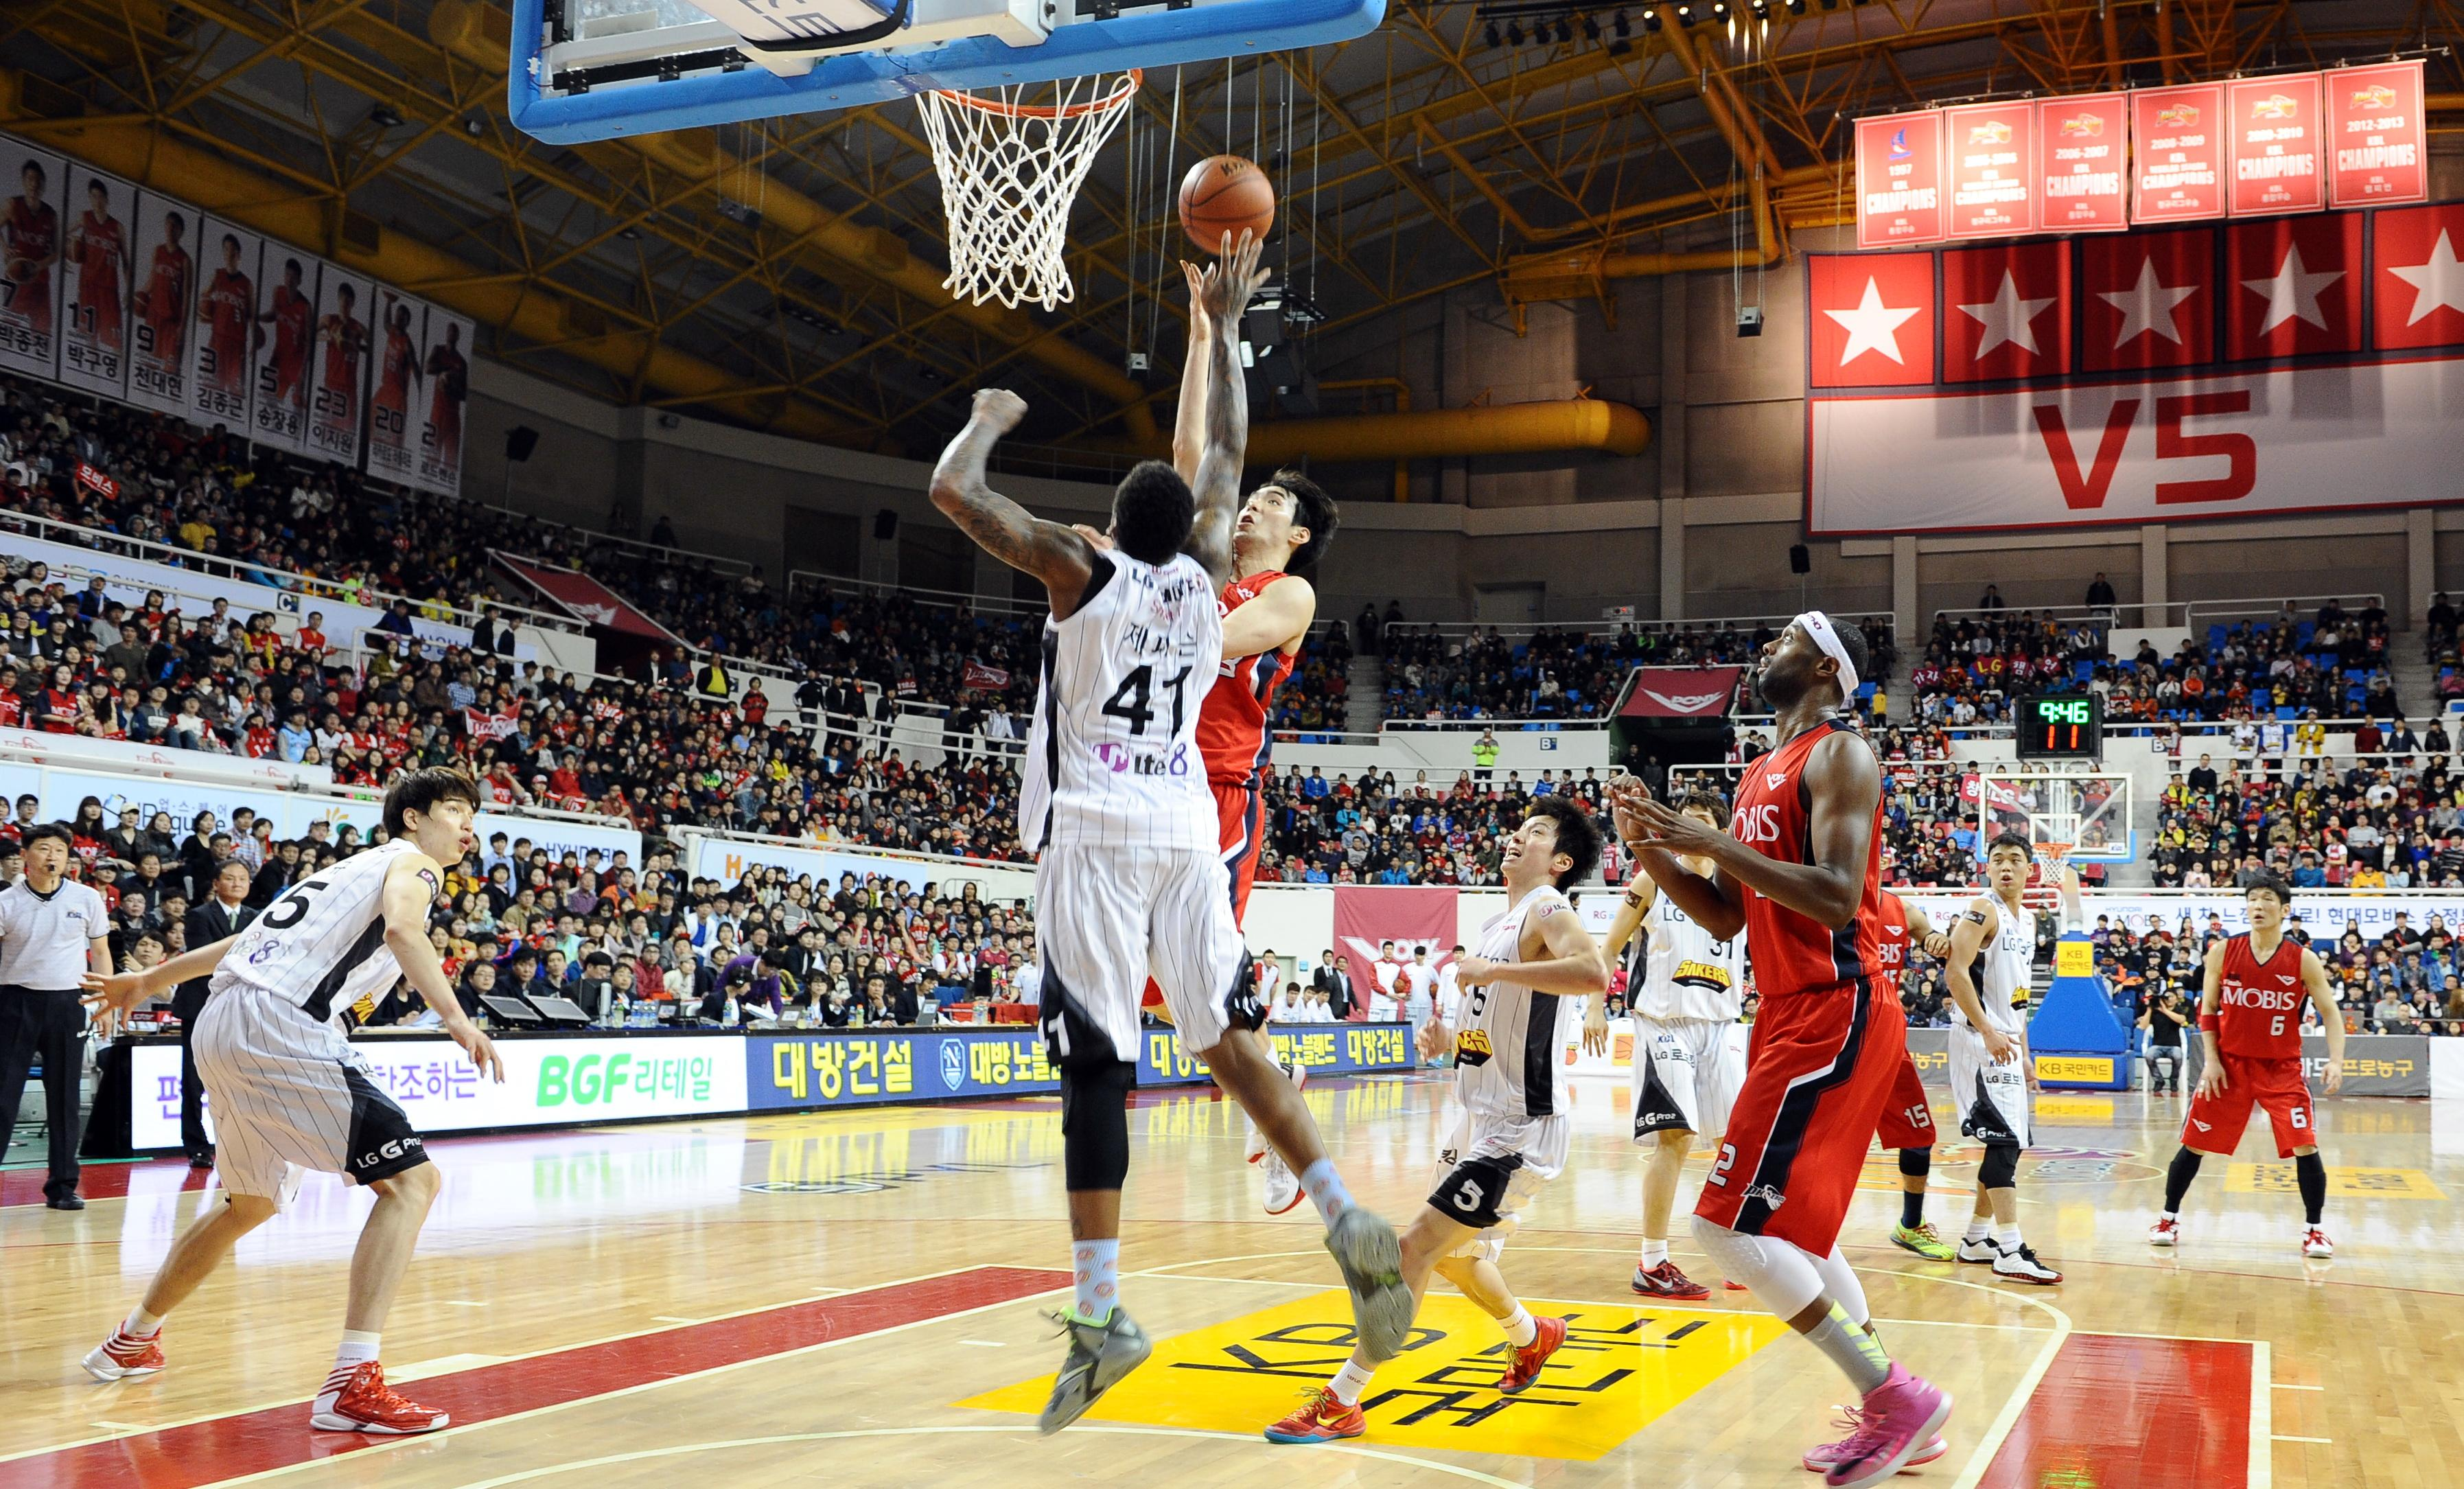block: (935, 225, 1292, 1456)
defense: (116, 737, 521, 1440)
run: (1639, 576, 1992, 1489)
shoot: (1126, 130, 1350, 1126)
stand: (2165, 859, 2351, 1285)
